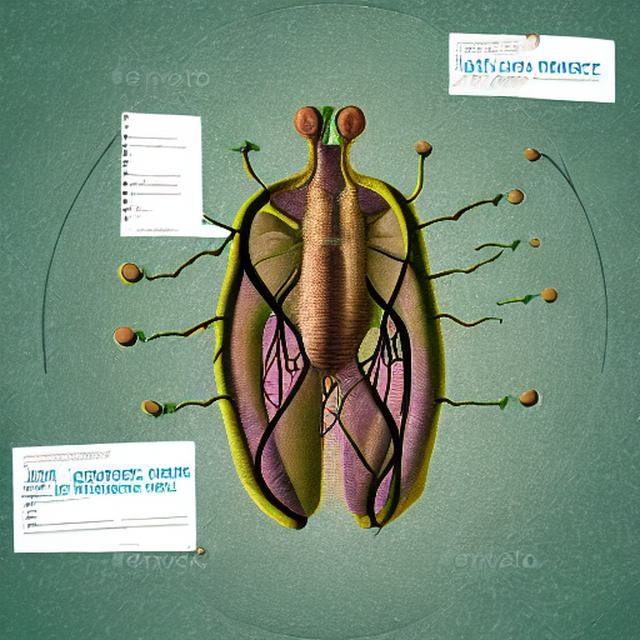Graph: (450, 41, 534, 94)
